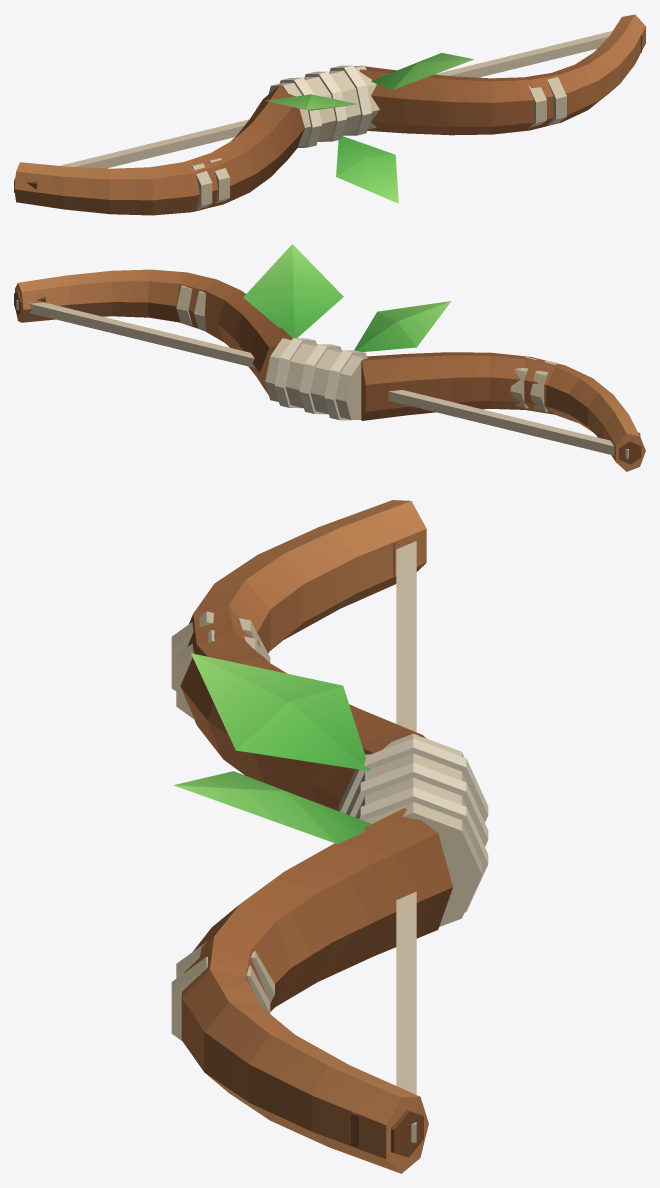
Rendered from oakBow.glb.
The picture shows the model from 3 angles, top to bottom: view 1: azimuth 30°, elevation 25°; view 2: azimuth 150°, elevation 25°; view 3: azimuth 270°, elevation 25°; orthographic projection. The views are drawn at different scales.
Parts seen in each view (by area): view 1: oakBow; view 2: oakBow; view 3: oakBow.
Boxes of the visible parts, x1=… form: oakBow: x1=14, y1=14, x2=645, y2=215; oakBow: x1=14, y1=244, x2=645, y2=471; oakBow: x1=171, y1=500, x2=488, y2=1173.
Bounding box in the file's own units: 1.92 × 0.3849 × 0.4178.
1 material, 1 textured.
